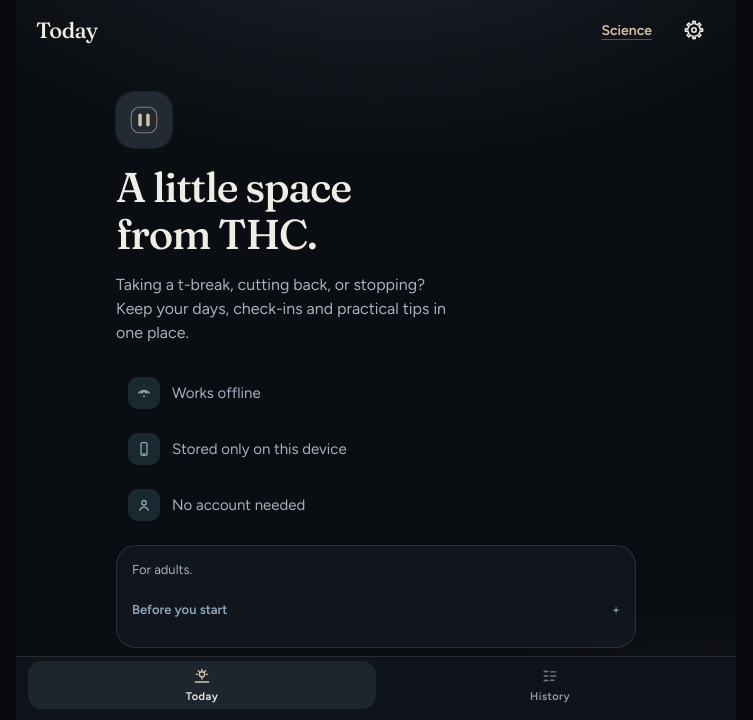
Test: app shell › switches between Today and History without opening settings
The width and height of the screenshot is (753, 720).
Step 1. Click the button "History" → (550, 685), box [376,661,724,709]
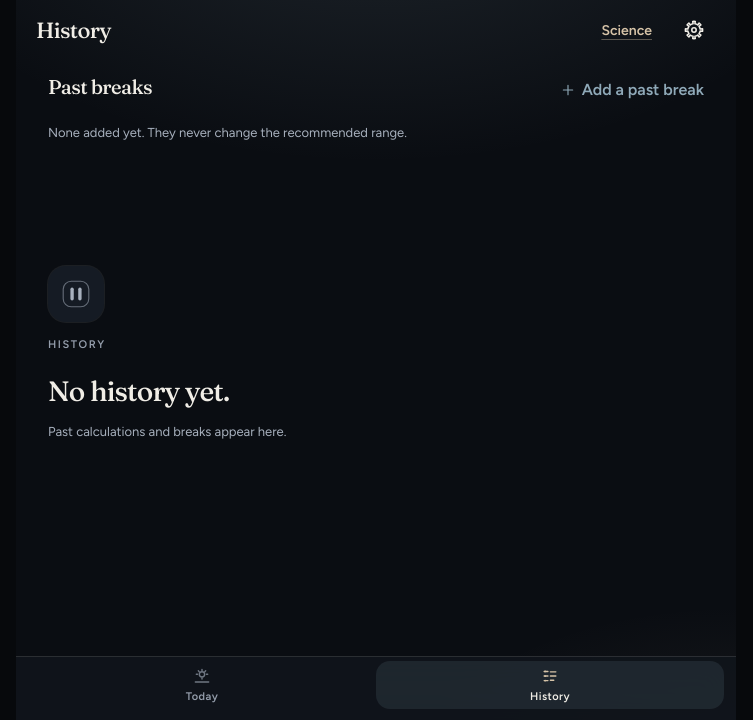
Expected: the element with test id "history-view" is shown, [48,68,704,557]
Expected: the text "No history yet." is shown, [48,376,229,407]
Step 2. Click the button "Today" → (202, 685), box [28,661,376,709]
(page scrolled)
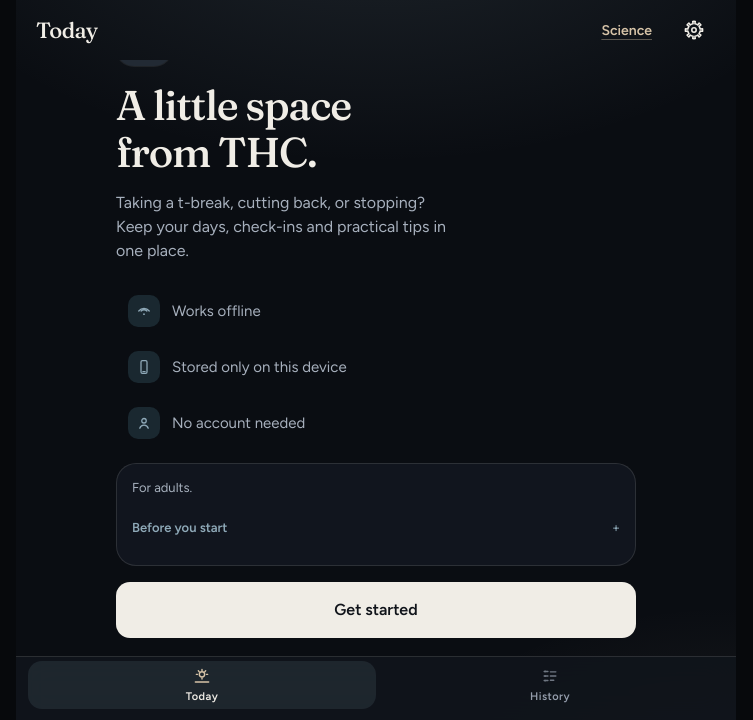
Expected: the element with test id "today-view" is shown, [116,60,636,656]
